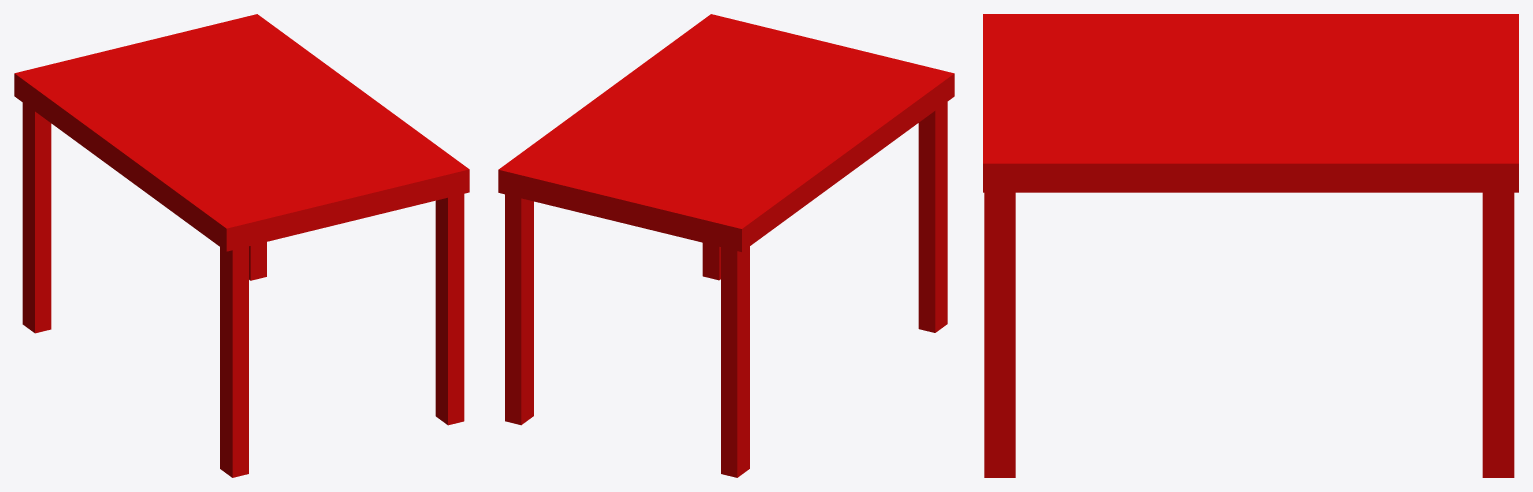
The model's file is SM_Bld_IndustrialWalkway_Preset_01_Collision.fbx.
3 renders of one model, left to right at view 1: azimuth 30°, elevation 25°; view 2: azimuth 150°, elevation 25°; view 3: azimuth 270°, elevation 25°, orthographic. The views are drawn at different scales.
Parts seen in each view (by area): view 1: SM_Bld_IndustrialWalkway_Preset_01_Collision; view 2: SM_Bld_IndustrialWalkway_Preset_01_Collision; view 3: SM_Bld_IndustrialWalkway_Preset_01_Collision.
Boxes of the visible parts, x1=… form: SM_Bld_IndustrialWalkway_Preset_01_Collision: x1=14, y1=14, x2=469, y2=477; SM_Bld_IndustrialWalkway_Preset_01_Collision: x1=498, y1=14, x2=954, y2=477; SM_Bld_IndustrialWalkway_Preset_01_Collision: x1=983, y1=14, x2=1518, y2=477.
Bounding box in the file's own units: 315 × 311 × 476.
